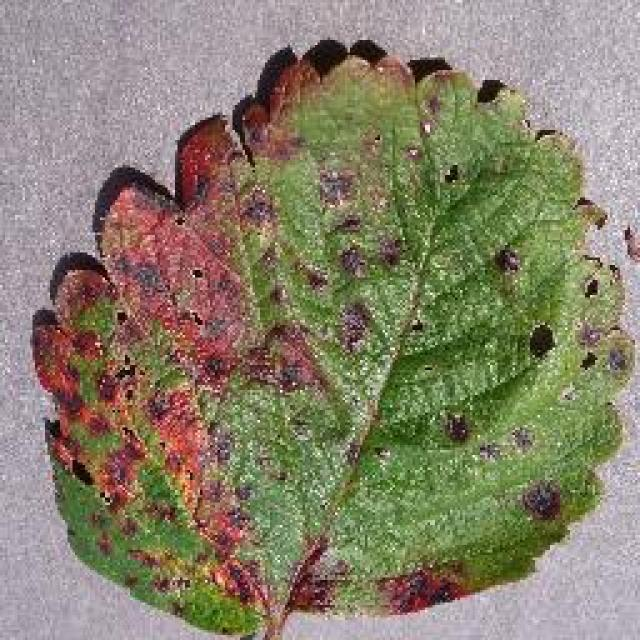Strawberry leaf scorch: (112, 240, 510, 545)
